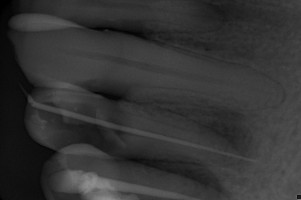Dental Caries: (115, 158, 228, 194), (193, 106, 258, 160)
Furcation Involvement: (207, 3, 231, 22)
